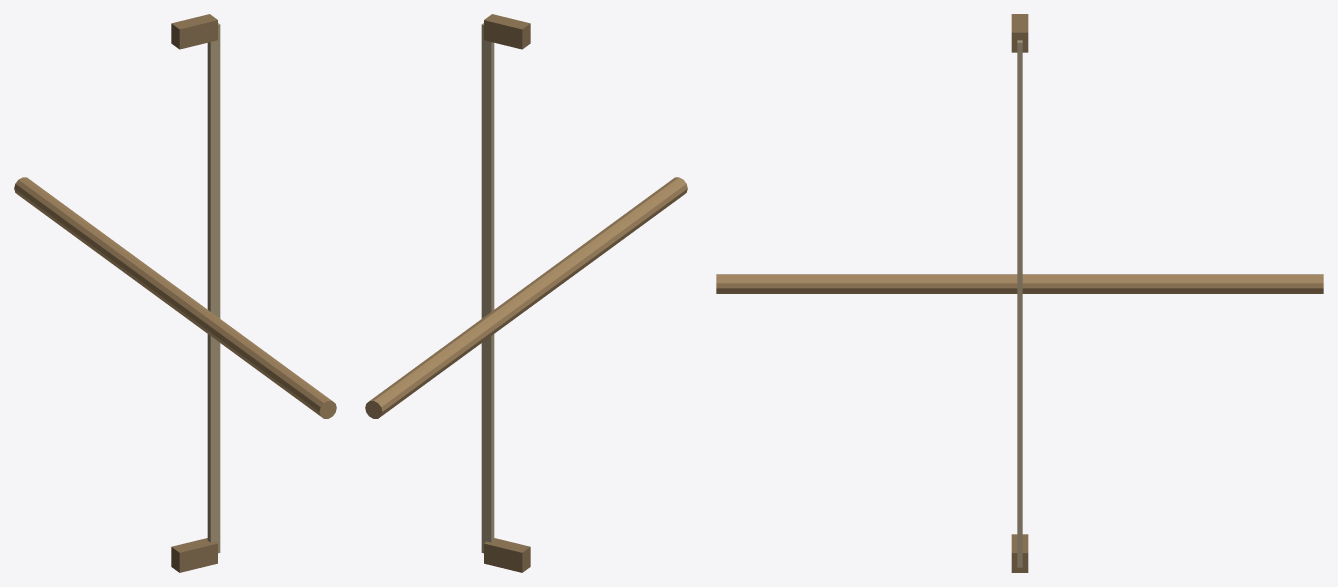
The model's file is bow.glb.
The picture shows the model from 3 angles, left to right: view 1: azimuth 30°, elevation 25°; view 2: azimuth 150°, elevation 25°; view 3: azimuth 270°, elevation 25°; orthographic projection.
Parts seen in each view (by area): view 1: geometry_0; view 2: geometry_0; view 3: geometry_0.
Part boxes in pixels (x1=…): geometry_0: x1=14, y1=14, x2=336, y2=572; geometry_0: x1=365, y1=14, x2=687, y2=572; geometry_0: x1=716, y1=14, x2=1323, y2=572.
Bounding box in the file's own units: 0.108 × 1.08 × 1.1.
